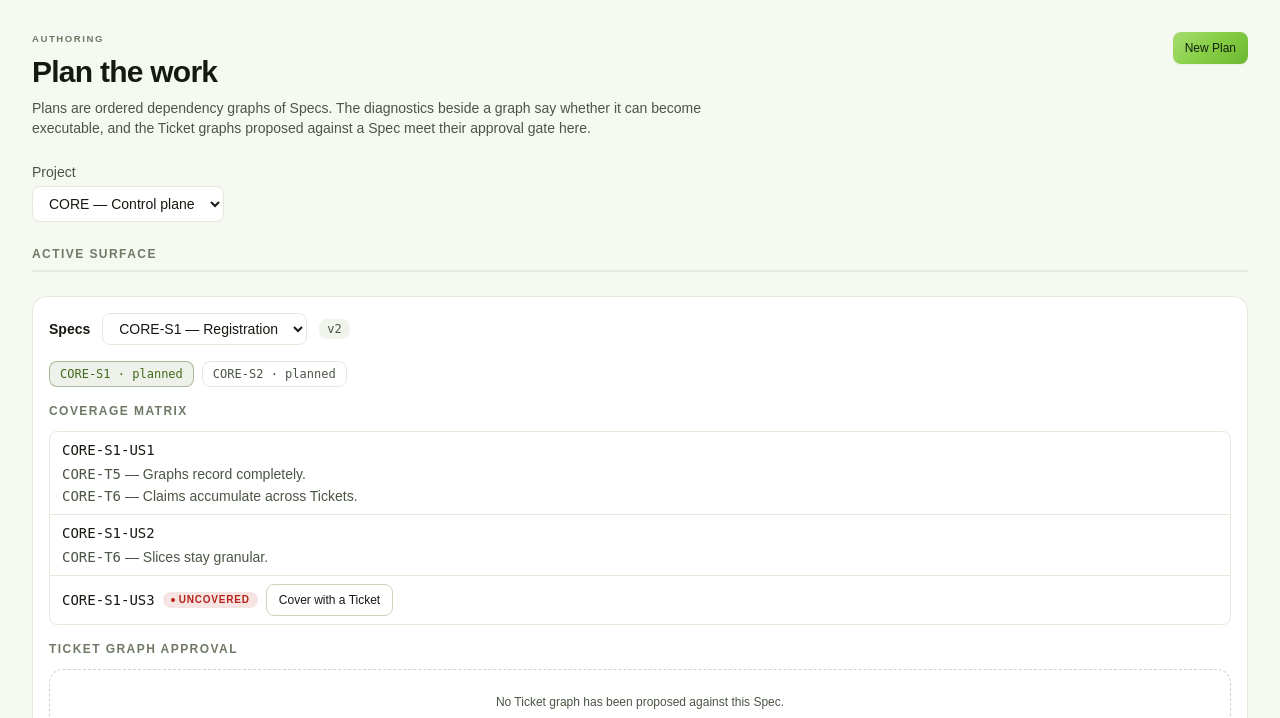
it: PlanningView coverage matrix › re-reads the matrix when the picker switches Specs
Select "CORE-S2 — Tickets" in the dropdown with test id "coverage-spec": {"x": 205, "y": 329} [102,313,307,345]
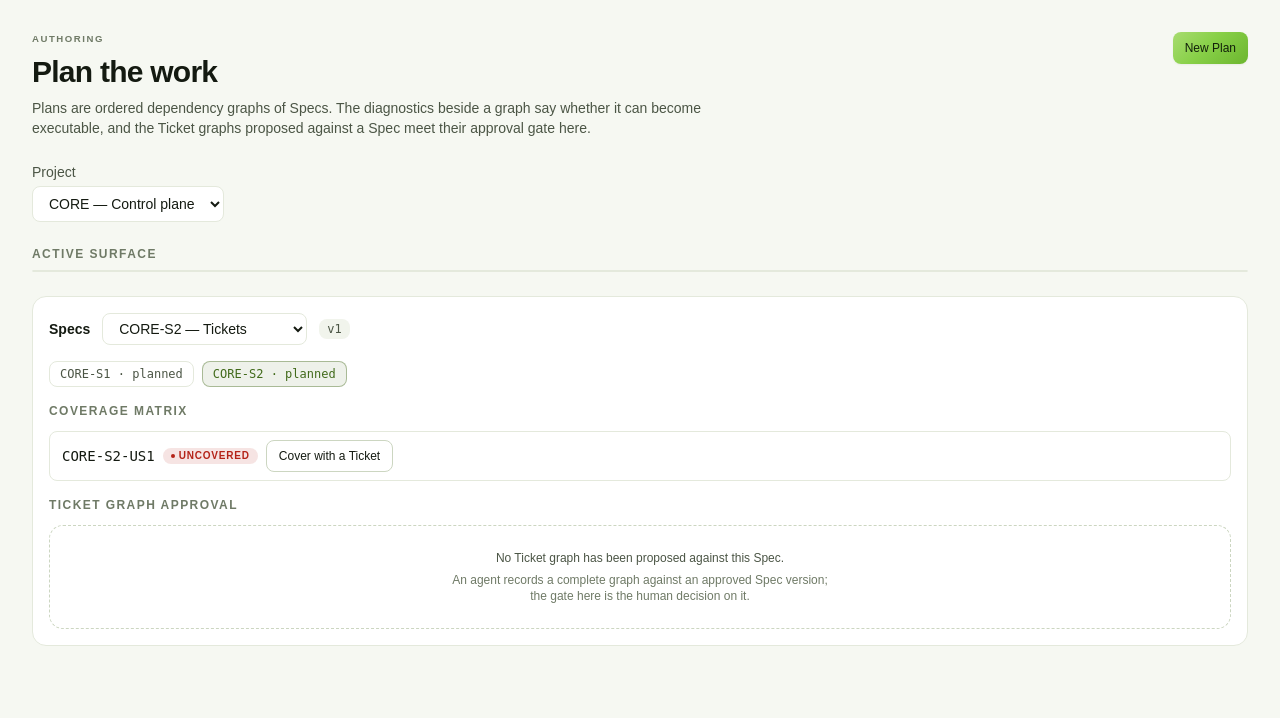
Expected: the element with test id "coverage-gap-CORE-S2-US1" reads "uncovered", [179,450,250,461]
Result: the text with test id "coverage-version" reads "v1" at [327,322,342,336]
Result: the list item with test id "coverage-row-CORE-S2-US1" is shown at [62,440,393,472]
